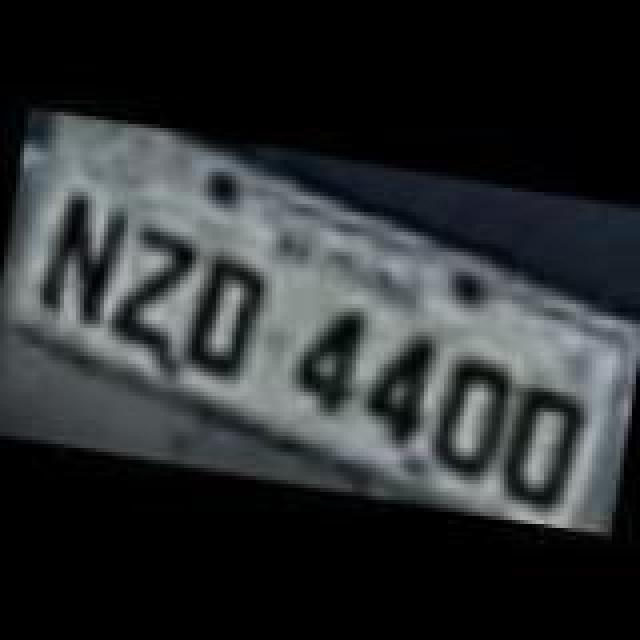4: (356, 320, 448, 456), (290, 298, 382, 426)
D: (176, 254, 272, 386)
N: (32, 174, 140, 330)
O: (496, 376, 588, 512), (424, 348, 516, 476)
Z: (104, 220, 200, 352)
